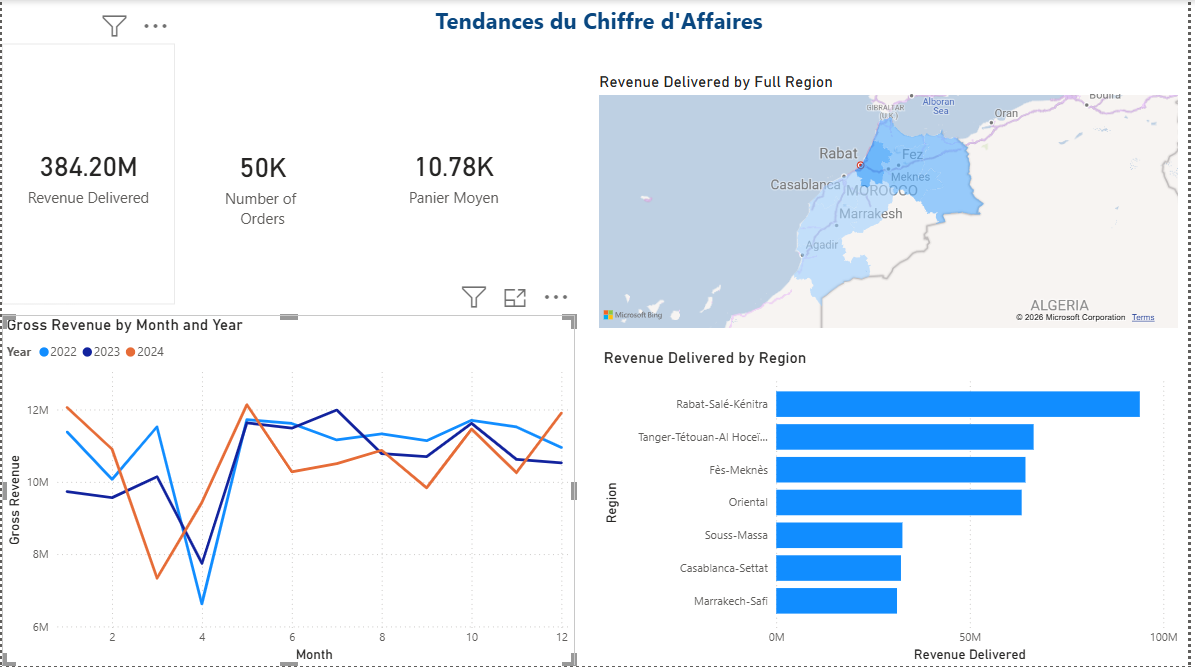

The page's visual inventory and layout, read from the dashboard file:
{"tool":"powerbi","page":{"name":"Tendances CA","canvas":[1280,720],"ordinal":0},"visuals":[{"type":"card","fields":{"Values":["FAIT_VENTES.CA Livré"]},"box":[24.4,126.9,385.5,170.8],"z":0},{"type":"card","fields":{"Values":["FAIT_VENTES.Nb Commandes"]},"box":[902.7,130.1,377.4,164.3],"z":1000},{"type":"card","fields":{"Values":["FAIT_VENTES.Panier Moyen"]},"box":[409.9,133.4,458.7,164.3],"z":2000},{"type":"lineChart","fields":{"Category":["MV_CA_MENSUEL.mois"],"Y":["Sum(MV_CA_MENSUEL.ca_ttc)"],"Series":["MV_CA_MENSUEL.annee"]},"box":[65.1,359.5,642.5,326.9],"z":3000},{"type":"clusteredBarChart","fields":{"Category":["DIM_CLIENT.region_admin"],"Y":["FAIT_VENTES.CA Livré"]},"box":[738.5,346.5,541.6,353],"z":4000},{"type":"textbox","box":[302.5,42.3,671.8,78.1],"z":5000}]}

Visuals, with their boxes in screenshot pixels (x1, y1, x2, y2), scaled from the page's 1280x720 canvas onto the 1195x667 screenshot:
card - FAIT_VENTES.CA Livré: detection(23, 118, 383, 276)
card - FAIT_VENTES.Nb Commandes: detection(843, 121, 1194, 273)
card - FAIT_VENTES.Panier Moyen: detection(383, 124, 811, 276)
lineChart - MV_CA_MENSUEL.mois x Sum(MV_CA_MENSUEL.ca_ttc): detection(61, 333, 661, 636)
clusteredBarChart - DIM_CLIENT.region_admin x FAIT_VENTES.CA Livré: detection(689, 321, 1194, 648)
textbox: detection(282, 39, 910, 112)
